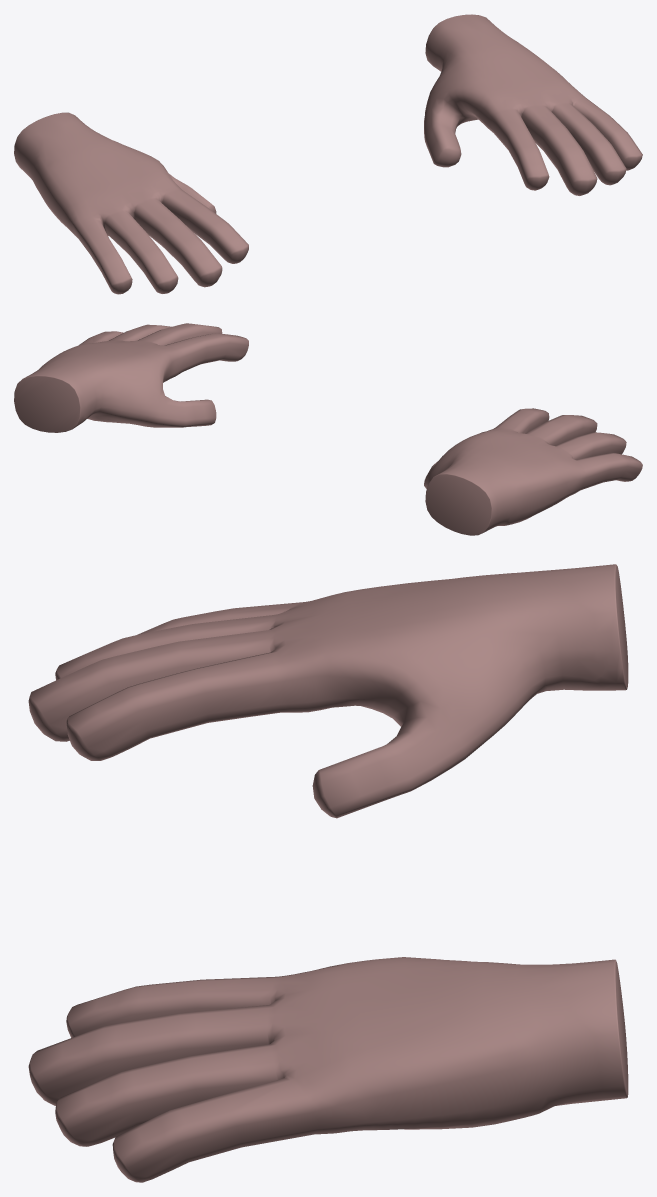
The model's file is mani low.fbx.
3 renders of one model, top to bottom at view 1: azimuth 30°, elevation 25°; view 2: azimuth 150°, elevation 25°; view 3: azimuth 270°, elevation 25°, orthographic. The views are drawn at different scales.
Parts seen in each view (by area): view 1: mano dx, mano sx; view 2: mano dx, mano sx; view 3: mano sx, mano dx.
Part boxes in pixels (bbox=[...]): mano dx: bbox=[14, 112, 248, 294]; mano sx: bbox=[424, 14, 642, 195]; mano dx: bbox=[424, 408, 642, 535]; mano sx: bbox=[14, 323, 248, 432]; mano sx: bbox=[28, 957, 628, 1182]; mano dx: bbox=[28, 564, 628, 818].
Bounding box in the file's own units: 439 × 63.54 × 215.
